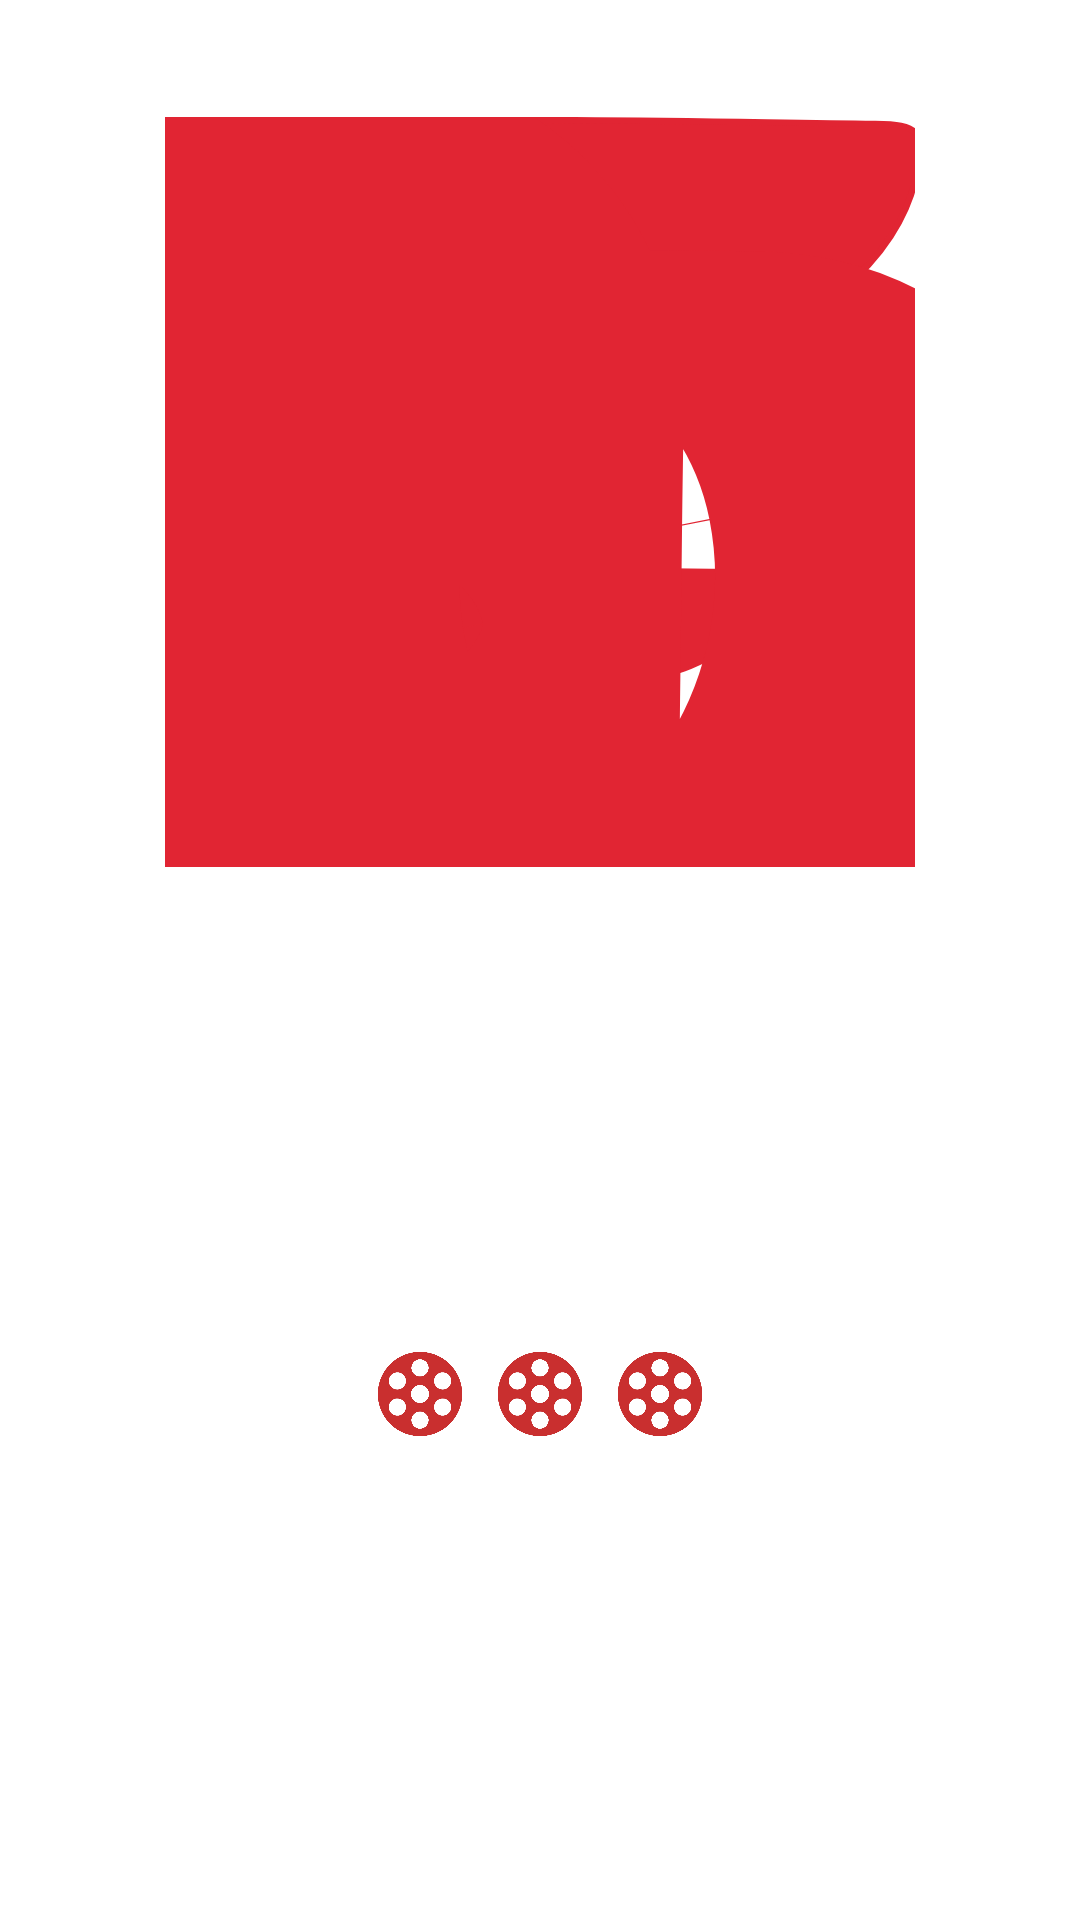

Locate icon controls on the screen. Image size 1080px x 1920px, boxes as (x1, y1, x2, y2).
roll: (378, 1352, 462, 1436), (498, 1352, 582, 1436), (618, 1352, 702, 1436)
